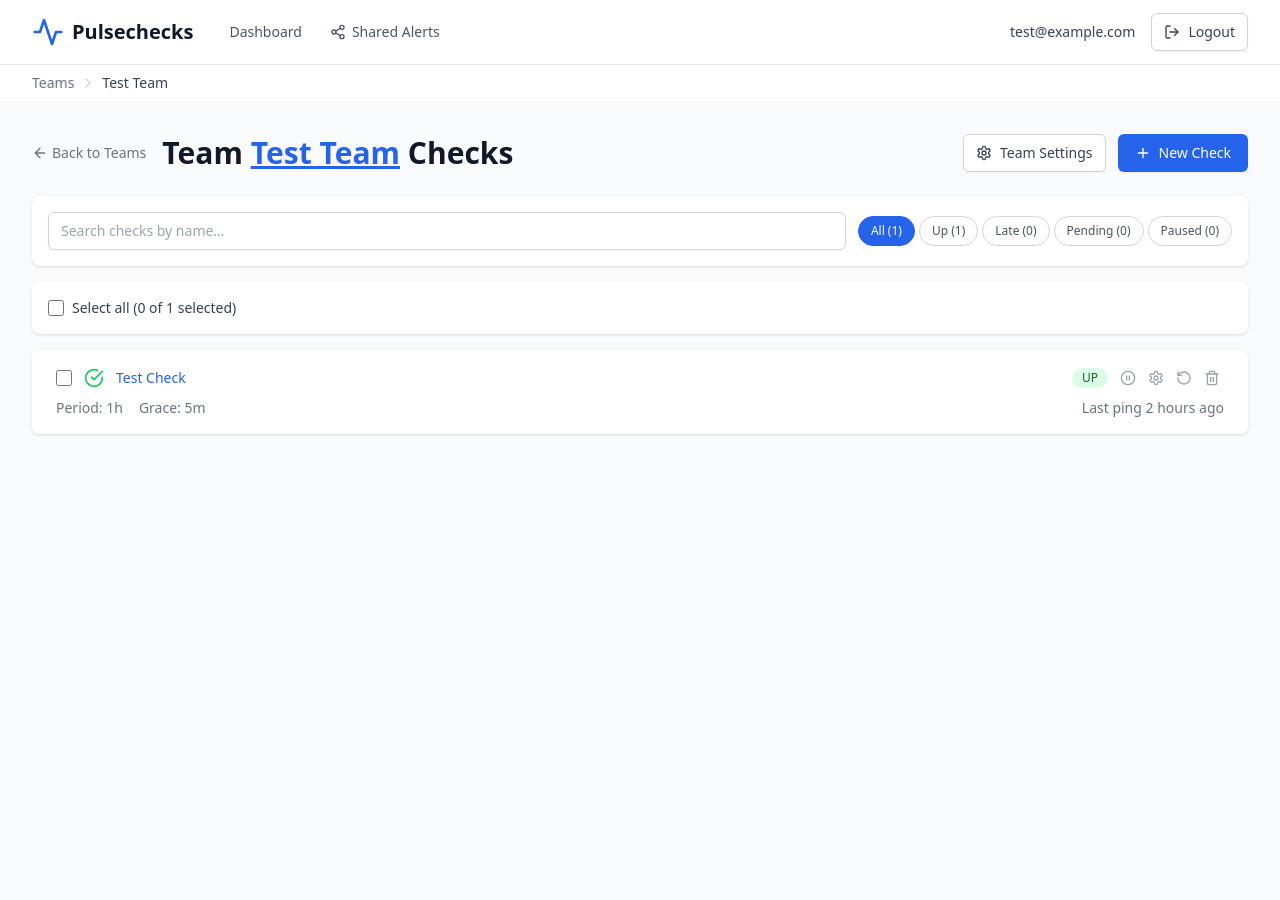
Test: ChecksPage › opens quick edit modal when quick edit button is clicked
This screenshot has width=1280, height=900.
Expected: the text "Test Check" is shown, x1=116 y1=368 x2=186 y2=388
Click the button titled "Quick Edit".
click(1156, 378)  # box x1=1144 y1=366 x2=1168 y2=390
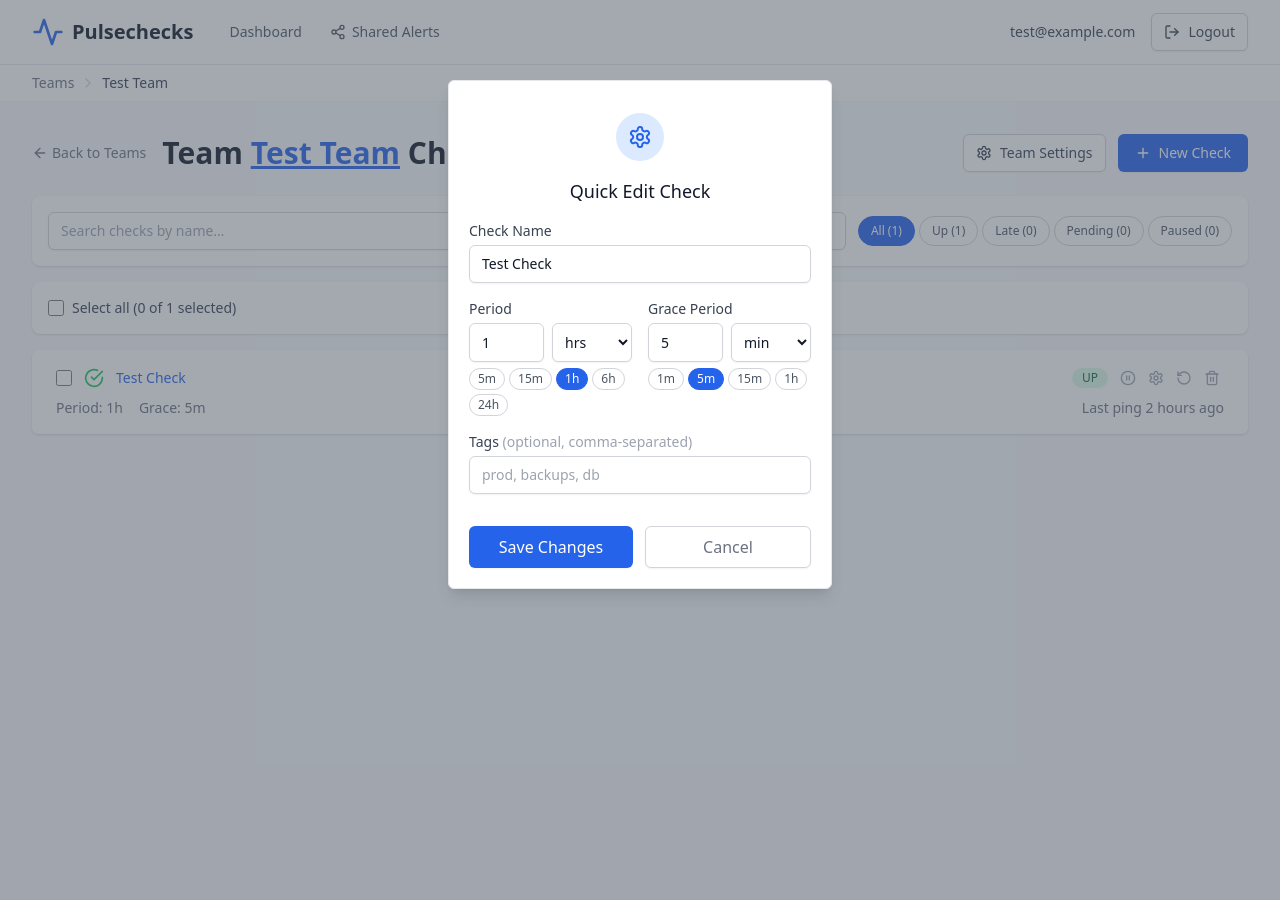
Expected: the heading "Quick Edit Check" is shown, x1=570 y1=179 x2=710 y2=203
Expected: the field showing "Test Check" is shown, x1=469 y1=245 x2=811 y2=283
Expected: the number field showing "1" is shown, x1=469 y1=323 x2=544 y2=362
